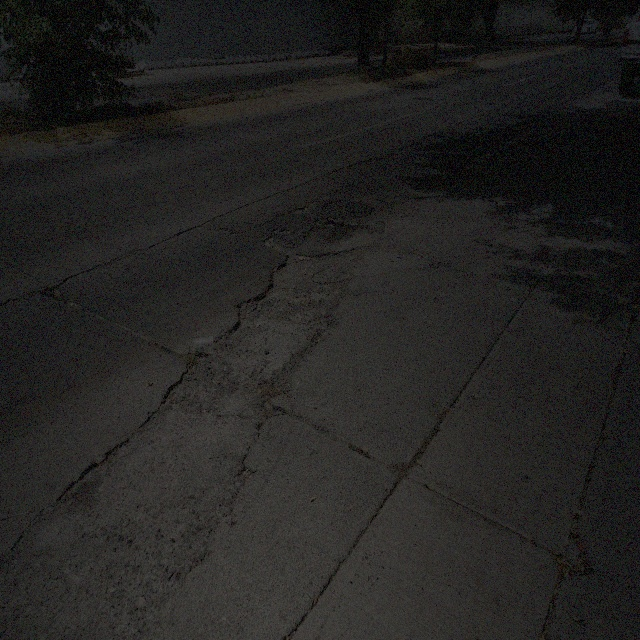pothole: (270, 249, 355, 281), (235, 292, 264, 332), (166, 369, 186, 401), (240, 461, 257, 481), (291, 204, 310, 217), (264, 231, 273, 253), (273, 228, 287, 238)
